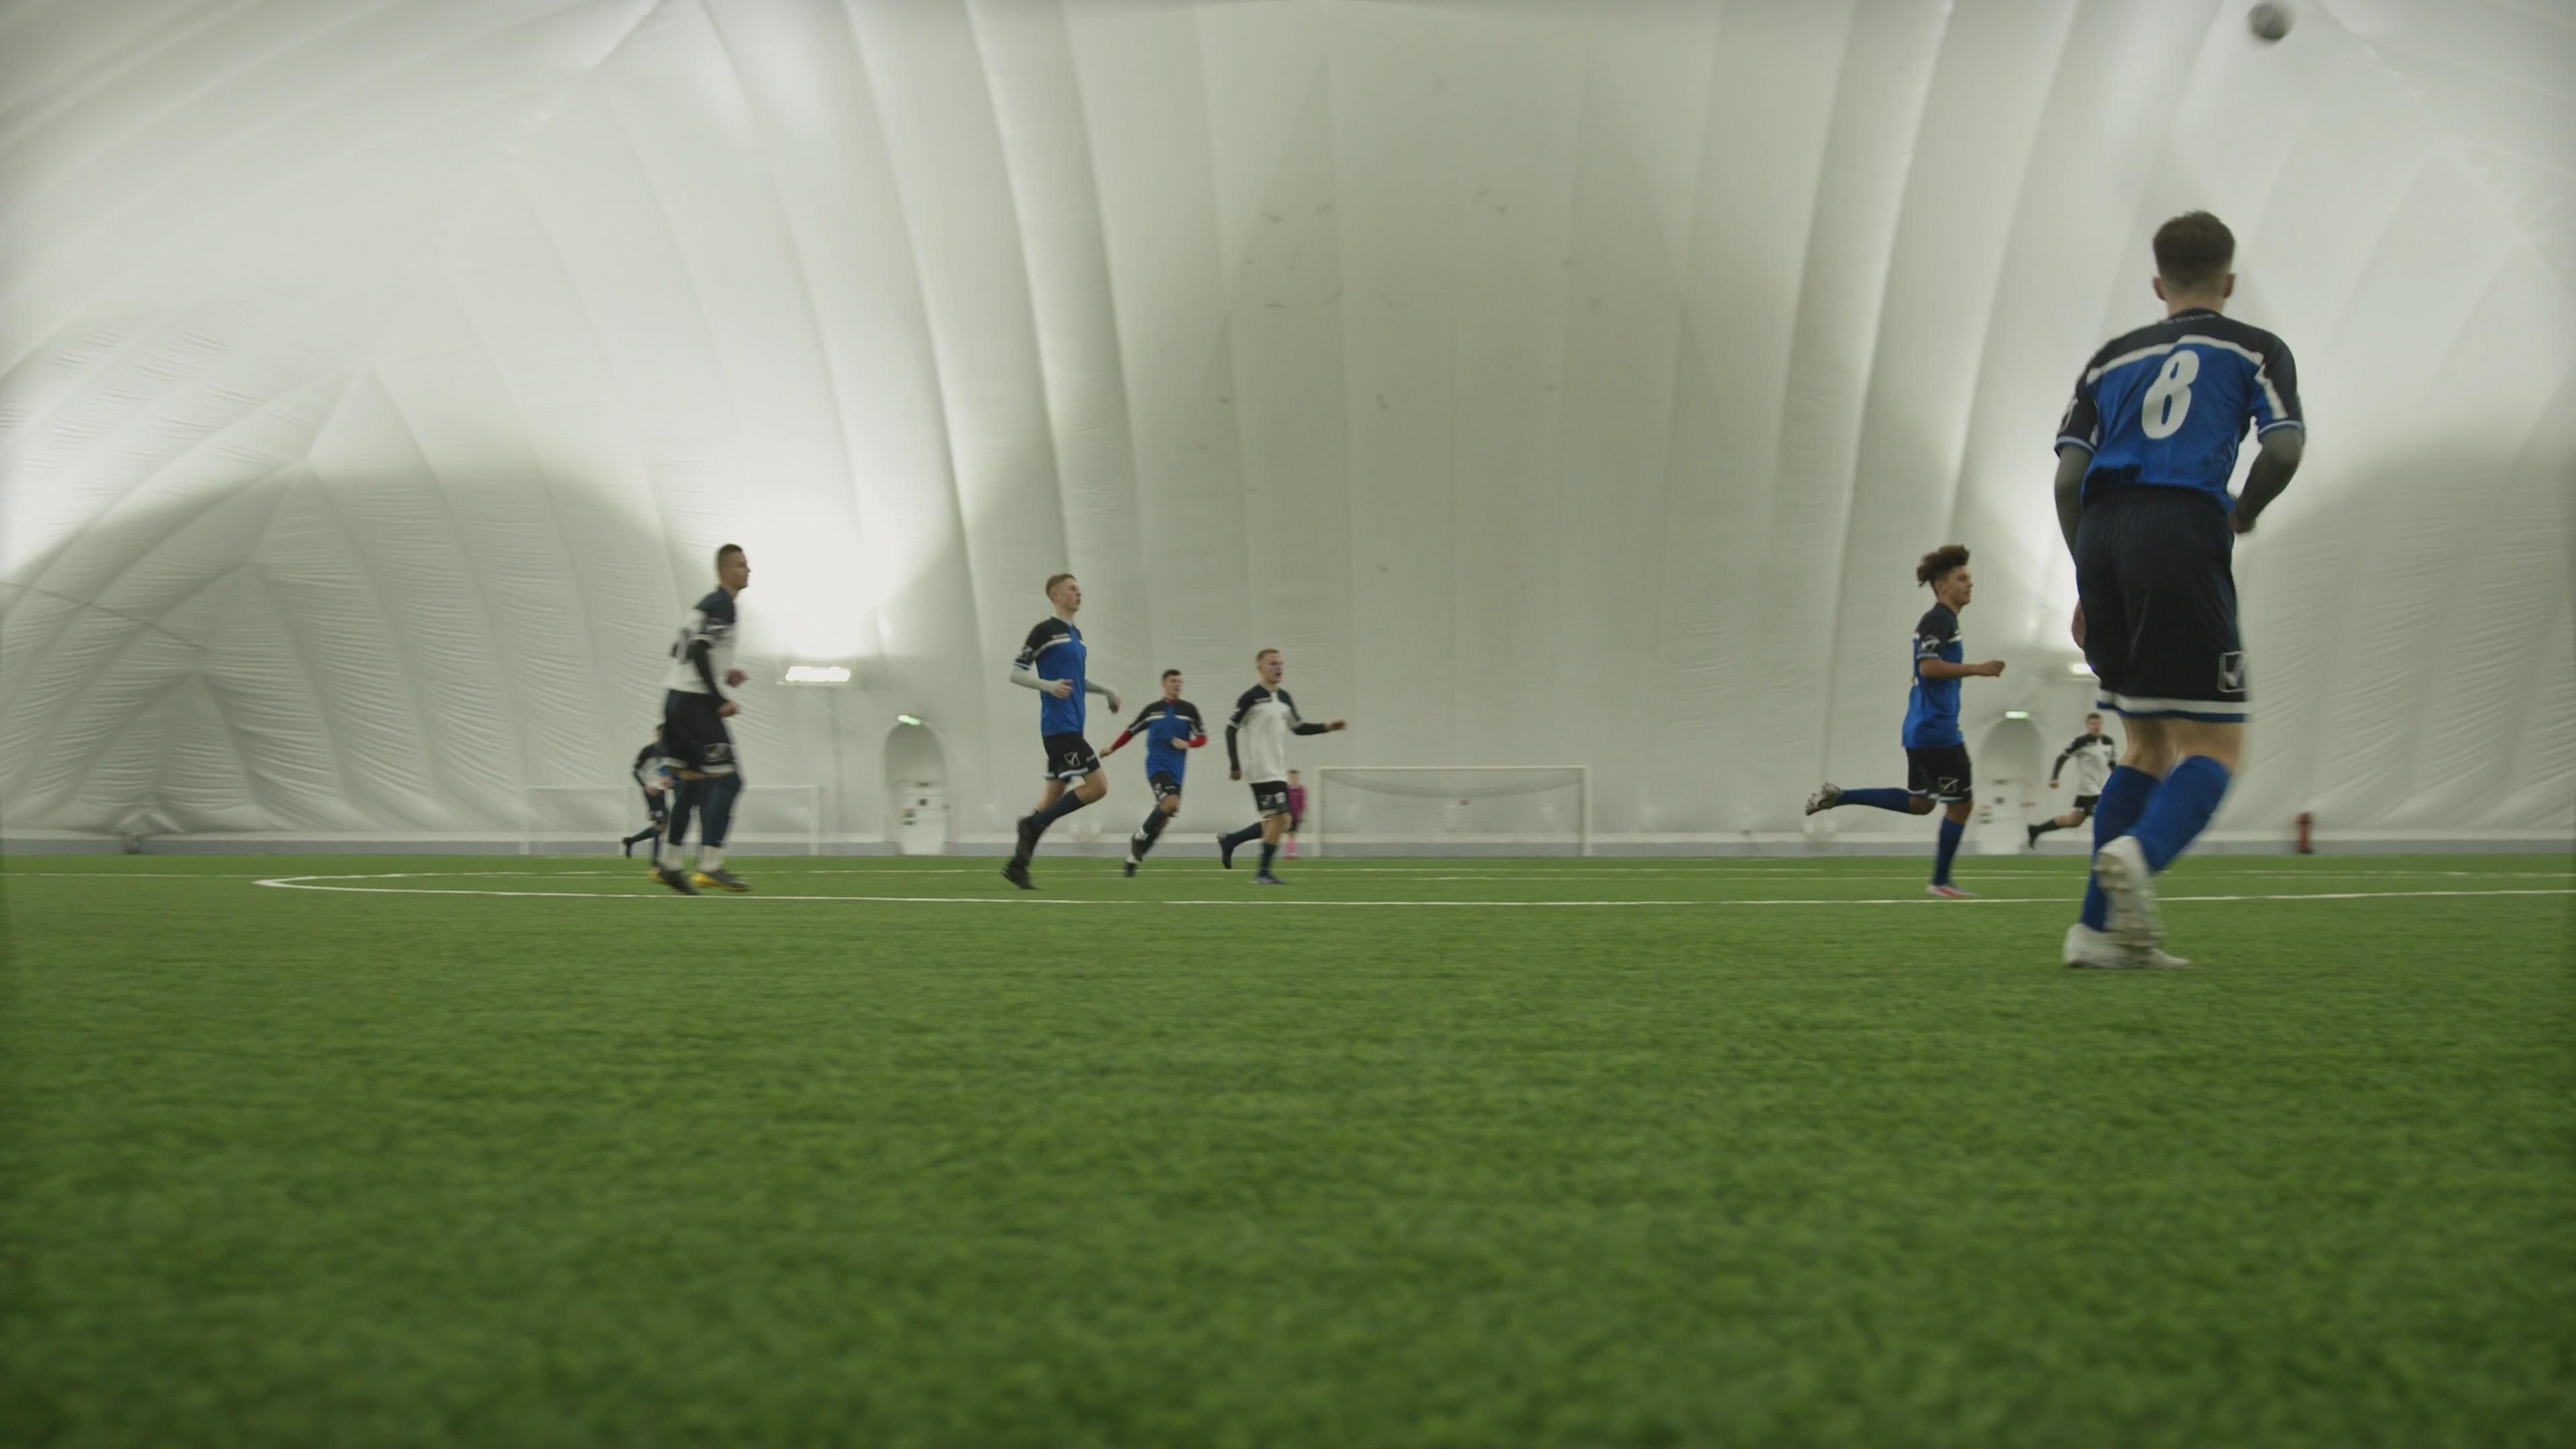other: (1283, 764, 1313, 863)
team1: (2043, 211, 2309, 975), (1806, 545, 1996, 895), (1005, 570, 1111, 886), (1116, 662, 1210, 883)
team2: (642, 541, 755, 893), (1221, 646, 1350, 883), (2033, 709, 2112, 826), (621, 720, 667, 863)
